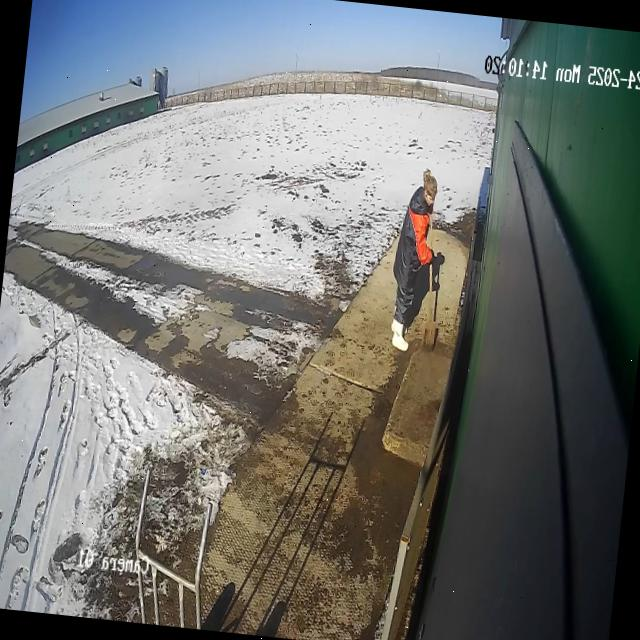Red uniform: (382, 165, 454, 358)
